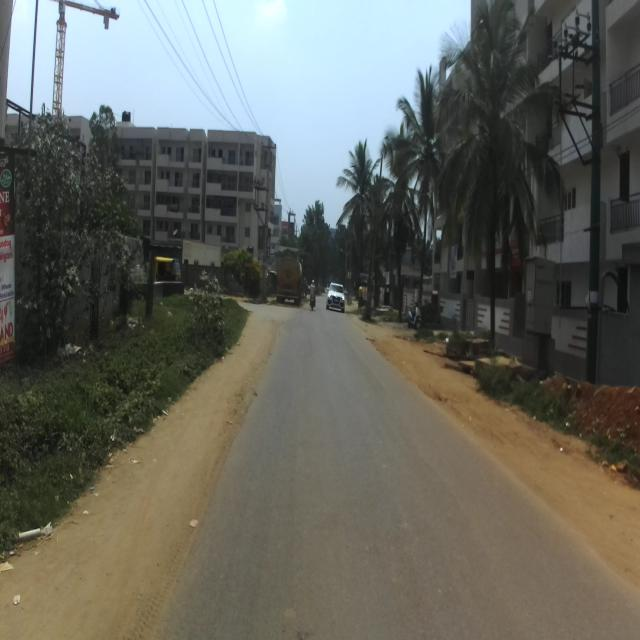plant ahead at: (187, 266, 234, 354)
